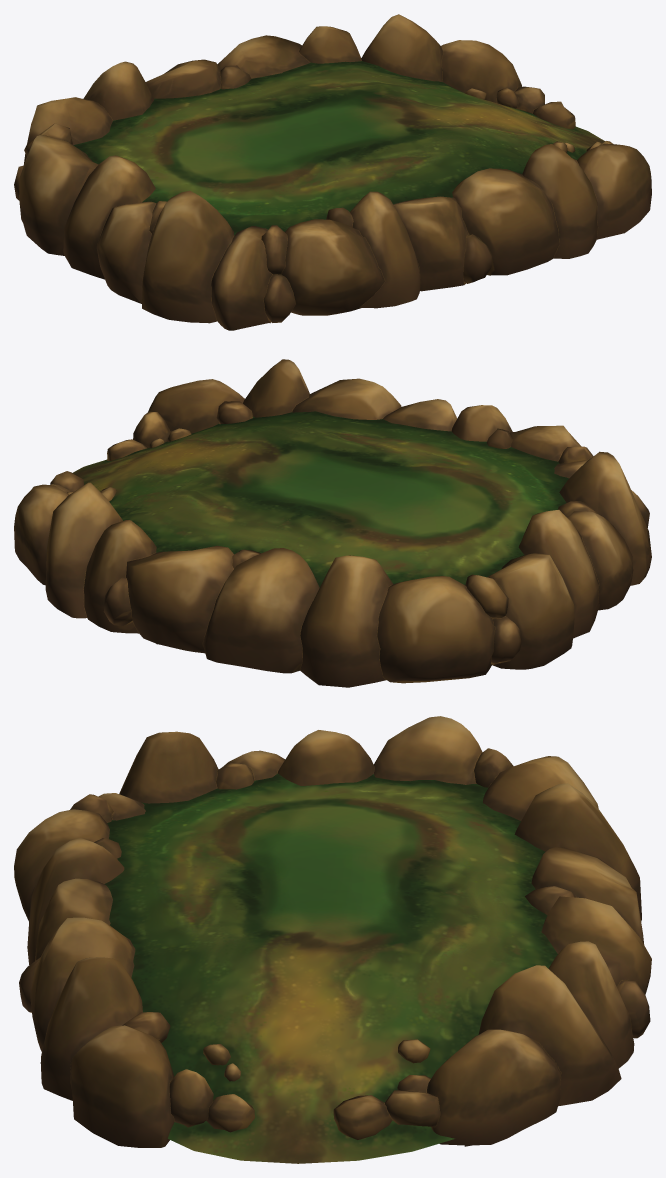
File: island.fbx
3 views of the same model, one above another, from view 1: azimuth 30°, elevation 25°; view 2: azimuth 150°, elevation 25°; view 3: azimuth 270°, elevation 25° (orthographic). The views are drawn at different scales.
Parts seen in each view (by area): view 1: Plane; view 2: Plane; view 3: Plane.
Part boxes in pixels (x1=…): Plane: x1=14, y1=14, x2=651, y2=330; Plane: x1=14, y1=359, x2=651, y2=687; Plane: x1=14, y1=716, x2=651, y2=1163.
Size of the model in its own units: 531 by 423 by 103.
